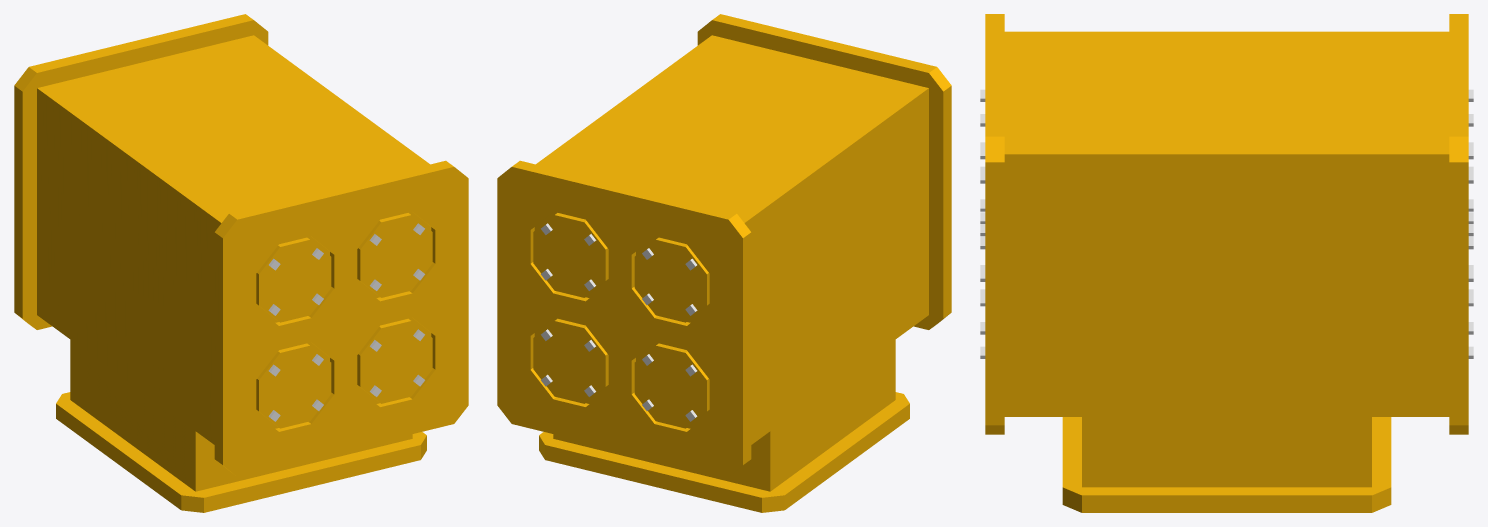
The model's file is modular_engine_manifold_housing_t.dae.
3 views of the same model, side by side, from view 1: azimuth 30°, elevation 25°; view 2: azimuth 150°, elevation 25°; view 3: azimuth 270°, elevation 25° (orthographic). The views are drawn at different scales.
Parts seen in each view (by area): view 1: Cube; view 2: Cube; view 3: Cube.
Boxes of the visible parts, <box> form: Cube: <box>14,14,468,512</box>; Cube: <box>497,14,951,512</box>; Cube: <box>980,14,1473,512</box>.
Bounding box in the file's own units: 0.17 × 0.255 × 0.2125.
